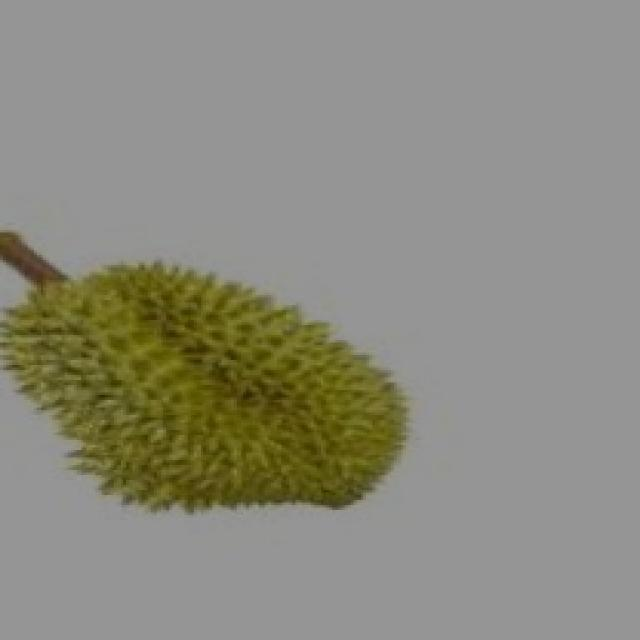fruit: (3, 225, 428, 563)
